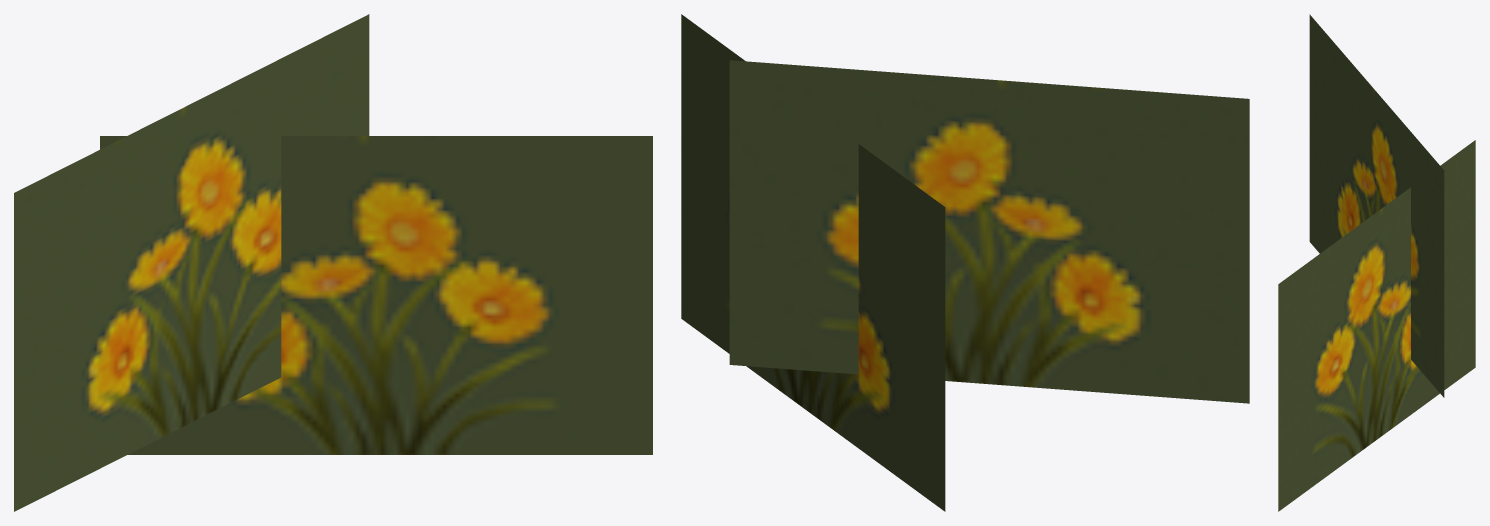
Rendered from flower_new_3.FBX.
3 renders of one model, left to right at view 1: azimuth 30°, elevation 25°; view 2: azimuth 150°, elevation 25°; view 3: azimuth 270°, elevation 25°, orthographic. The views are drawn at different scales.
Parts seen in each view (by area): view 1: Plane001; view 2: Plane001; view 3: Plane001.
Boxes of the visible parts, <box> form: Plane001: <box>14,14,652,511</box>; Plane001: <box>681,14,1249,511</box>; Plane001: <box>1278,14,1475,511</box>.
Size of the model in its own units: 33.53 by 20.6 by 13.01.
